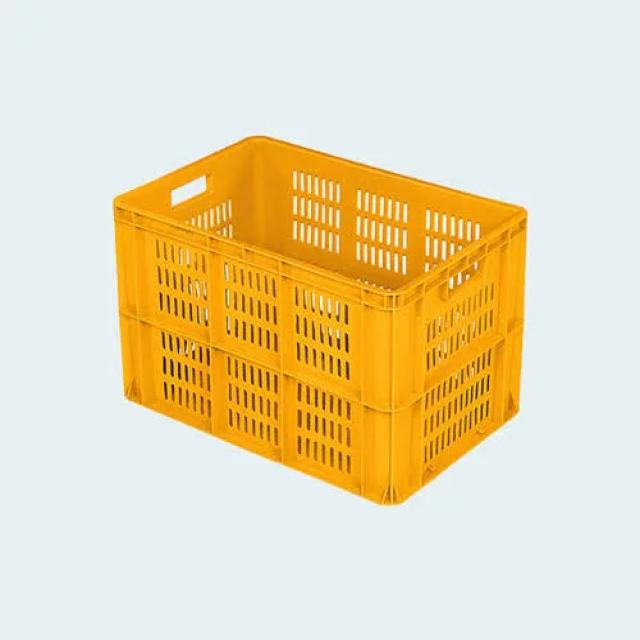plastic_box: (110, 78, 518, 539)
